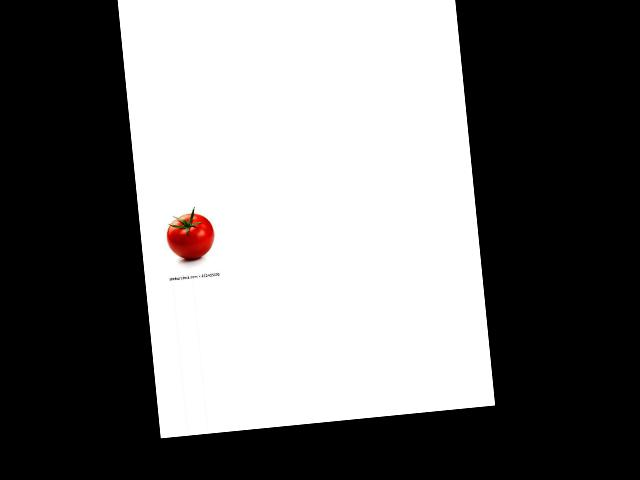tomato: (165, 211, 216, 261)
